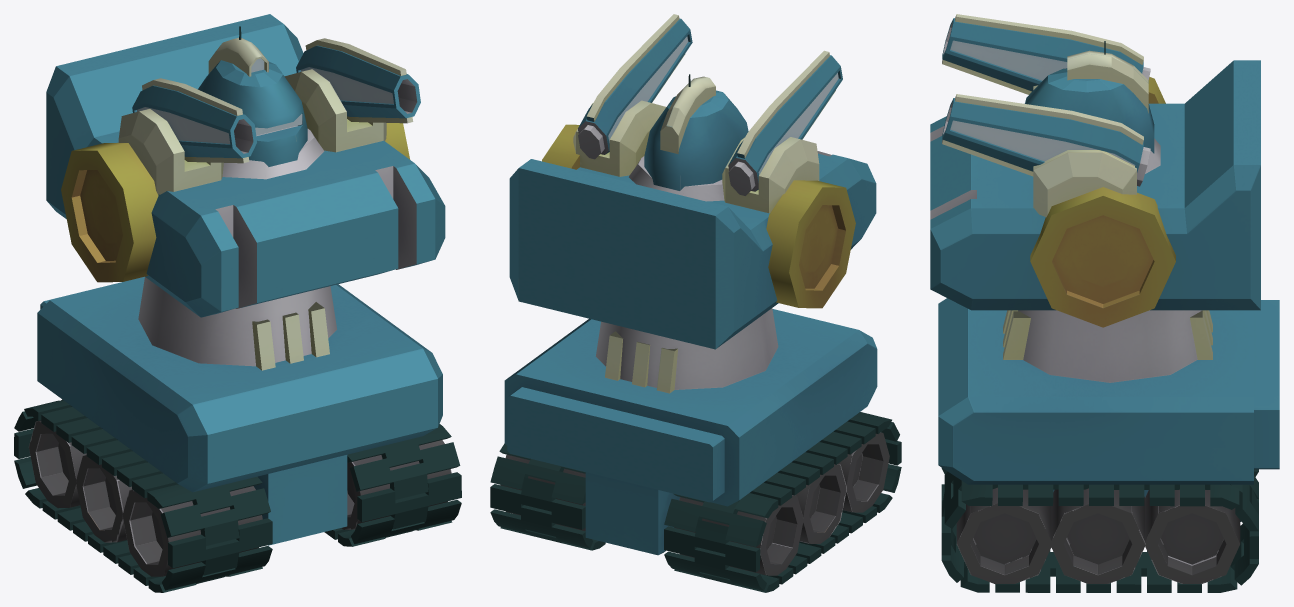
Rendered from player_idle0.obj.
3 renders of one model, left to right at view 1: azimuth 30°, elevation 25°; view 2: azimuth 150°, elevation 25°; view 3: azimuth 270°, elevation 25°, orthographic. The views are drawn at different scales.
Visible parts, largest first — view 1: Object004, Box038, Object012, Object011, Box042; view 2: Object004, Box038, Object012, Object011, Box042; view 3: Object004, Object011, Object012, Box042.
Part boxes in pixels (left/top/right/bottom): Object004: left=37, top=14, right=445, bottom=545; Box038: left=14, top=399, right=272, bottom=592; Object012: left=132, top=38, right=420, bottom=163; Object011: left=28, top=420, right=451, bottom=576; Box042: left=324, top=424, right=461, bottom=546; Object004: left=504, top=76, right=877, bottom=555; Box038: left=664, top=412, right=901, bottom=592; Object012: left=578, top=14, right=842, bottom=195; Object011: left=500, top=432, right=889, bottom=575; Box042: left=490, top=443, right=605, bottom=550; Object004: left=930, top=50, right=1279, bottom=521; Object011: left=956, top=487, right=1240, bottom=583; Object012: left=942, top=14, right=1150, bottom=186; Box042: left=941, top=471, right=1258, bottom=592.
Bounding box in the file's own units: 110 × 176 × 115.
Materials: 3 (1 with a texture image).
